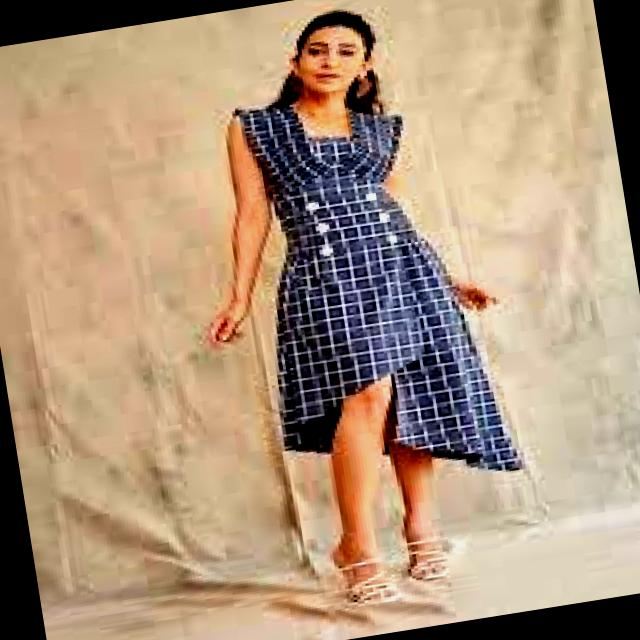dress: (233, 103, 522, 471)
